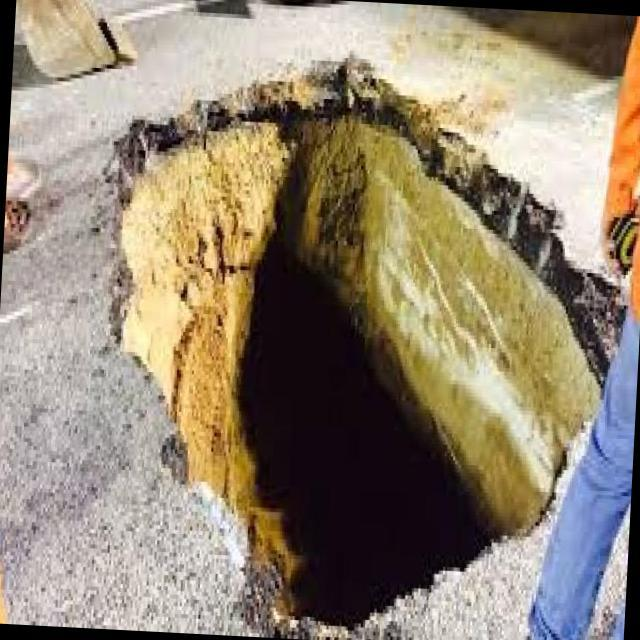pothole: (65, 26, 590, 634)
